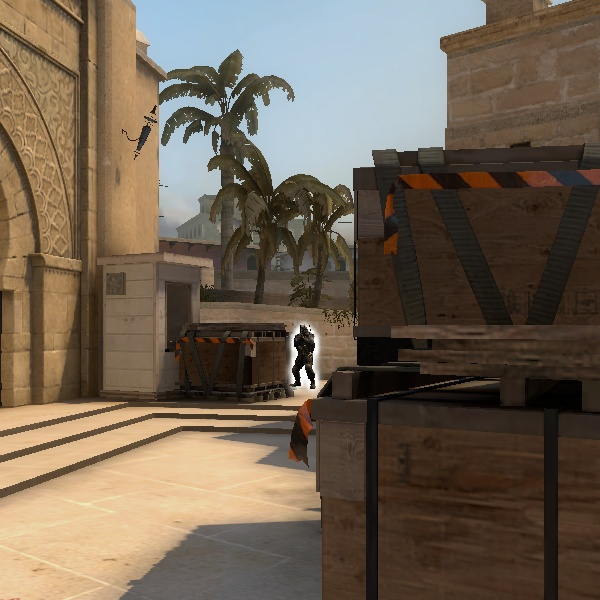ct_body: (285, 321, 322, 389)
ct_head: (297, 323, 312, 337)
